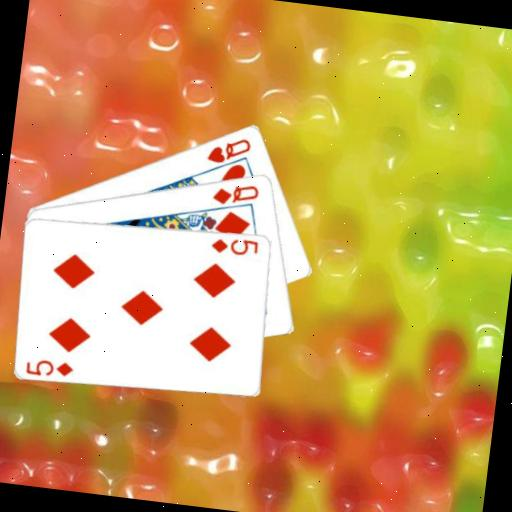5D: (208, 232, 261, 260), (23, 354, 77, 381)
QD: (209, 177, 262, 210)
QH: (204, 131, 255, 169)
